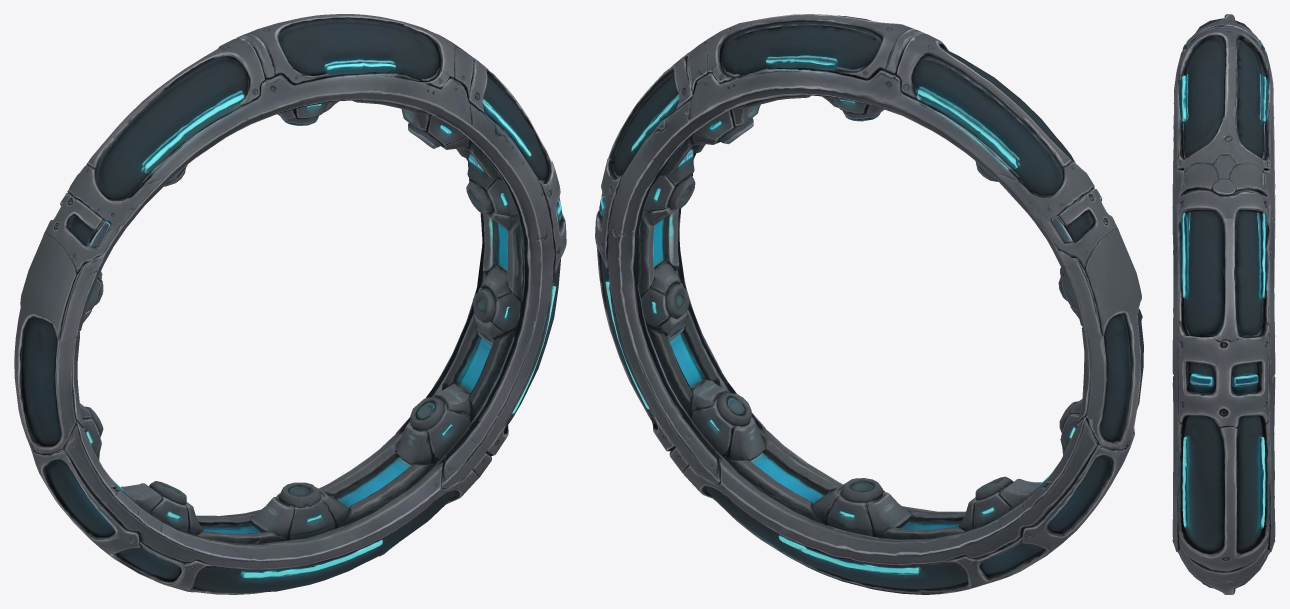
Rendered from sign-a.glb.
The picture shows the model from 3 angles, left to right: view 1: azimuth 30°, elevation 25°; view 2: azimuth 150°, elevation 25°; view 3: azimuth 270°, elevation 25°; orthographic projection. The views are drawn at different scales.
Parts seen in each view (by area): view 1: SM_sign_a; view 2: SM_sign_a; view 3: SM_sign_a.
Part boxes in pixels (box(x1,y1,x2,y2)): SM_sign_a: box(14, 14, 566, 594); SM_sign_a: box(595, 14, 1143, 594); SM_sign_a: box(1172, 14, 1275, 594).
Bounding box in the file's own units: 0.9785 × 0.9761 × 0.1725.
Materials: 1 (1 with a texture image).
